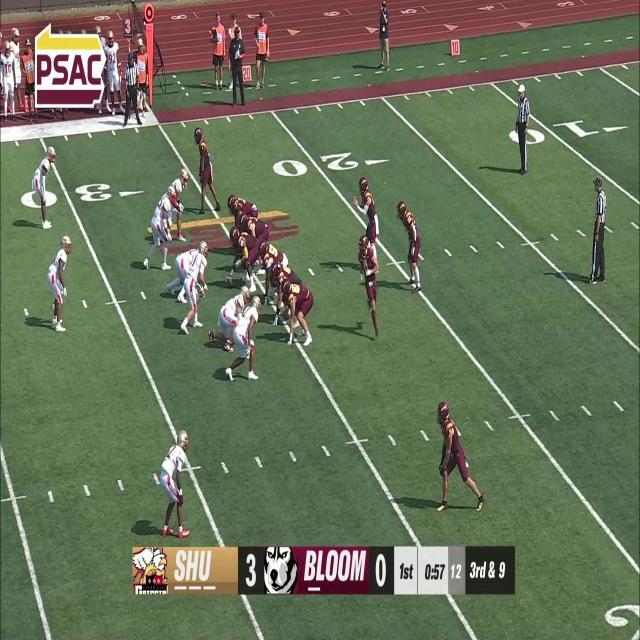football: (226, 276, 233, 290)
